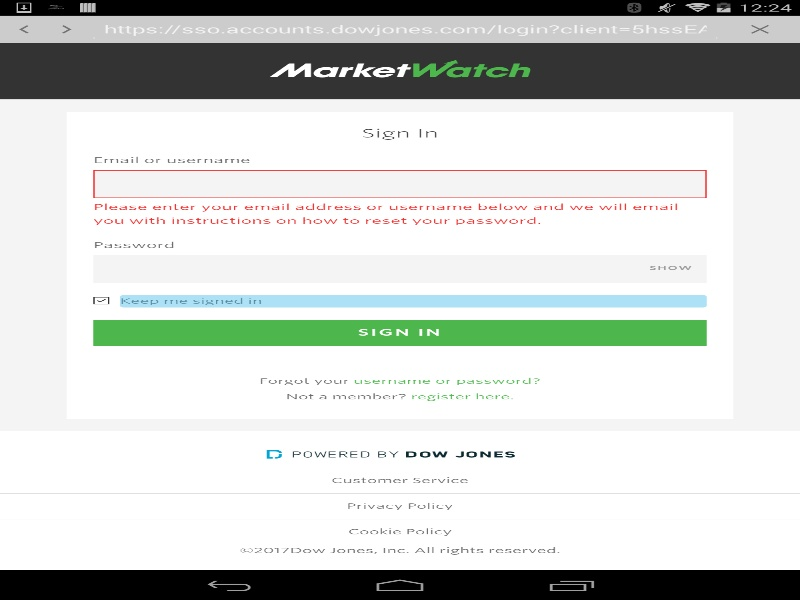Button: (722, 16, 797, 41), (2, 16, 45, 41), (45, 16, 88, 41)
Input: (88, 16, 722, 41)
